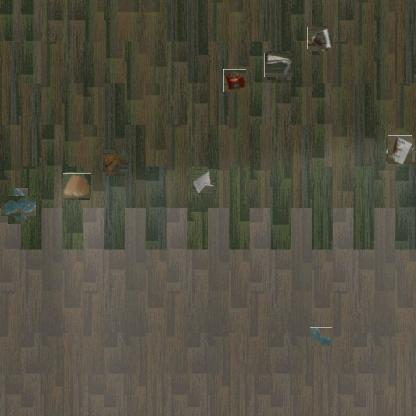dirty: (387, 137, 414, 163), (64, 173, 91, 199), (266, 52, 292, 79), (193, 170, 217, 194), (308, 27, 332, 50), (223, 69, 246, 92), (104, 152, 127, 174)
liquid: (4, 192, 32, 221), (310, 327, 332, 346)
